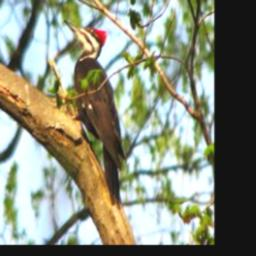Woodpecker: (60, 16, 128, 211)
